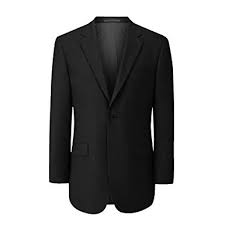F_M_suit jacket: (45, 7, 179, 216)
